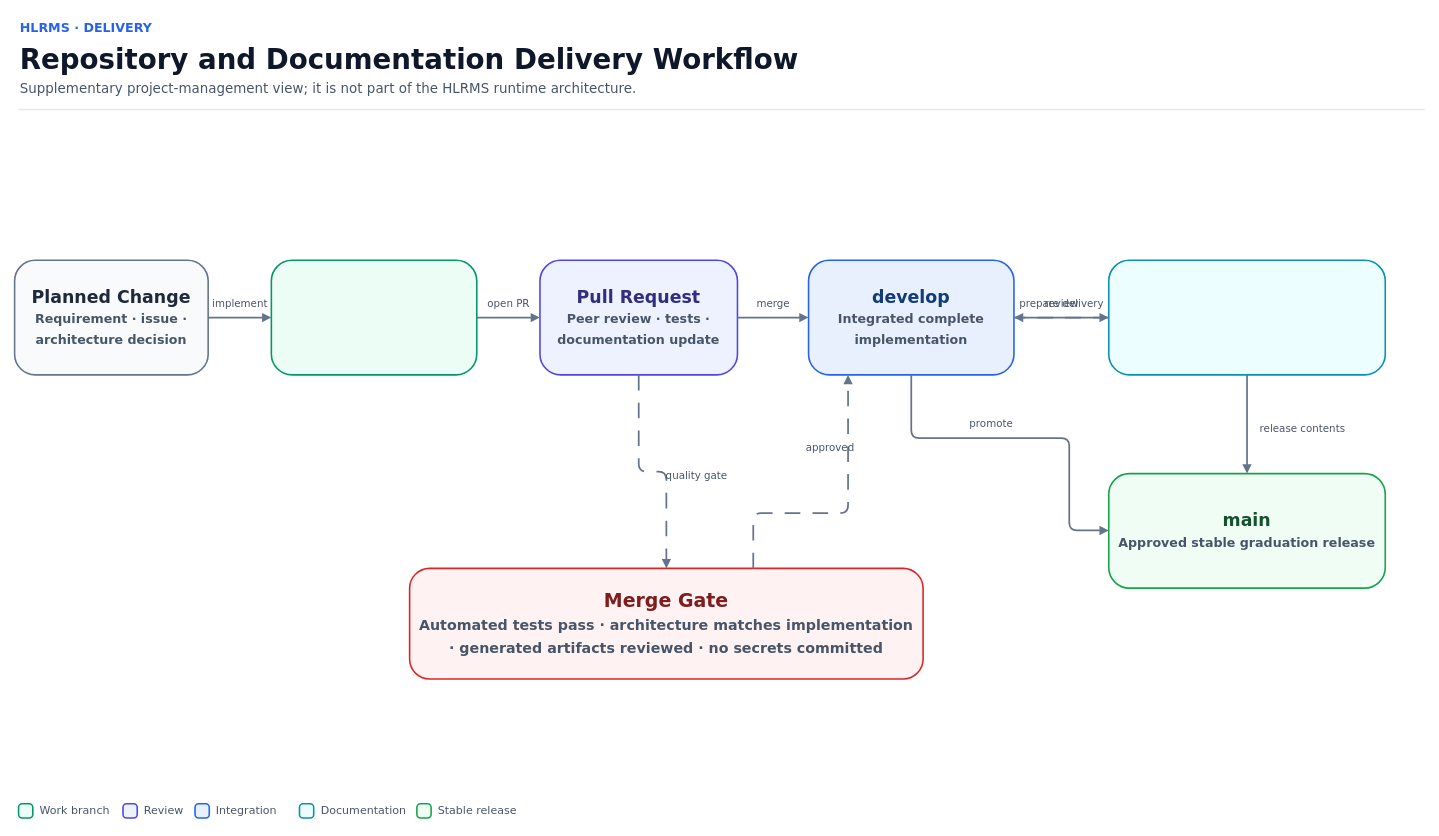
The diagram is 1439 pixels wide and 836 high, and some of its shapes have lost their labels. The shapes that lost their labels are listed below. From the top down, each one's centre as x and y in pixels, then its label:
[373,317]: feature/* · fix/* Code, tests and local verification
[1247,317]: docs/final-delivery Documentation branch · final artifacts
